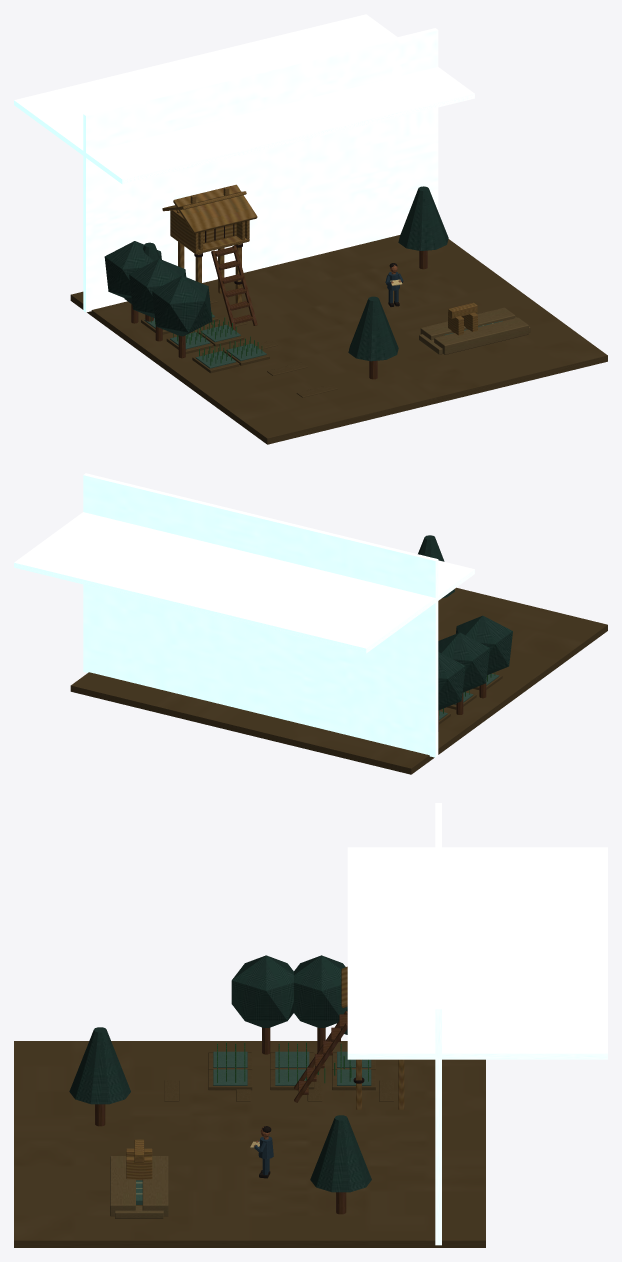
File: room.glb
3 views of the same model, one above another, from view 1: azimuth 30°, elevation 25°; view 2: azimuth 150°, elevation 25°; view 3: azimuth 270°, elevation 25° (orthographic). The views are drawn at different scales.
Visible parts, largest first — view 1: Open sky backdrop, Village ground, Village tree crown, Lumbung padi, Saluran irigasi, Village tree trunk, Sawah, Sawah.001; view 2: Open sky backdrop, Village ground, Village tree crown; view 3: Village ground, Open sky backdrop, Village tree crown, Sawah, Saluran irigasi, Village tree trunk, Lumbung padi.
Part boxes in pixels (x1,y1,x2,y2): Open sky backdrop: (14,14,474,312); Village ground: (70,235,607,444); Village tree crown: (104,186,448,361); Lumbung padi: (162,184,477,335); Saluran irigasi: (419,307,530,354); Village tree trunk: (131,245,427,379); Sawah: (144,314,502,368); Sawah.001: (151,317,262,365); Open sky backdrop: (14,473,474,757); Village ground: (70,587,607,774); Village tree crown: (418,535,512,710); Village ground: (14,1041,485,1247); Open sky backdrop: (347,803,607,1245); Village tree crown: (69,955,371,1192); Sawah: (136,1051,371,1204); Saluran irigasi: (110,1156,168,1218); Village tree trunk: (95,1011,347,1214); Lumbung padi: (126,966,404,1180).
Size of the model in its own units: 15.02 by 8.2 by 18.25.
13 materials, 13 textured.
